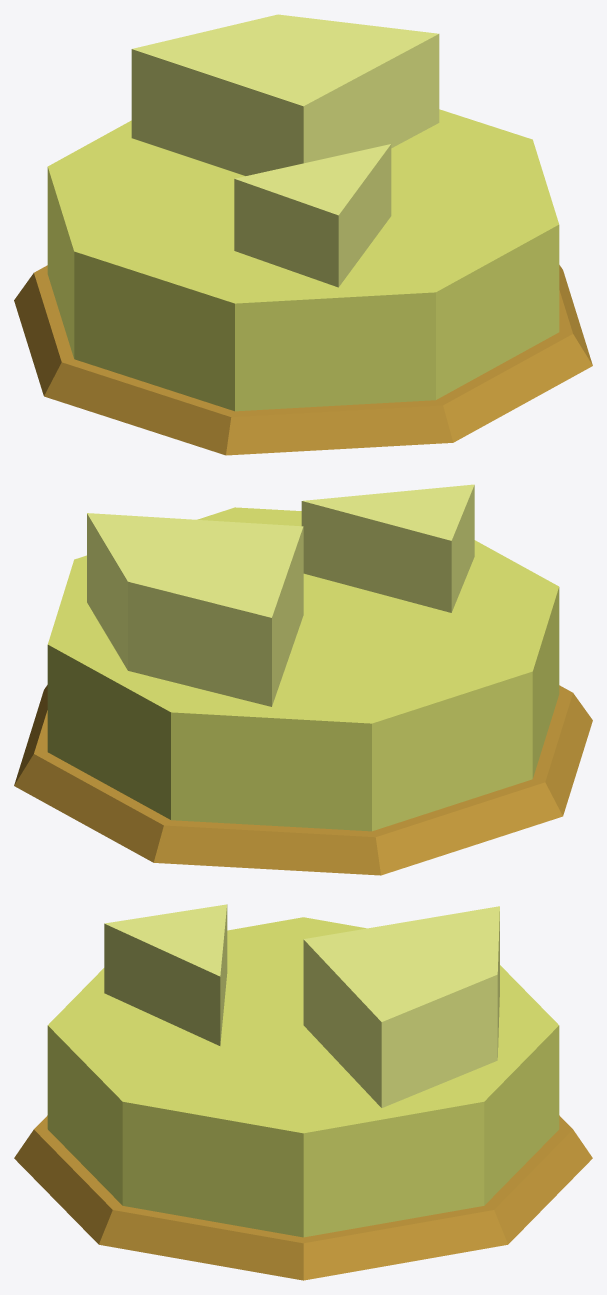
Rendered from Food 01 Cheese.fbx.
The picture shows the model from 3 angles, top to bottom: view 1: azimuth 30°, elevation 25°; view 2: azimuth 150°, elevation 25°; view 3: azimuth 270°, elevation 25°; orthographic projection. The views are drawn at different scales.
Visible parts, largest first — view 1: Food_01_Cheese; view 2: Food_01_Cheese; view 3: Food_01_Cheese.
Part boxes in pixels (left/top/right/bottom): Food_01_Cheese: left=14, top=14, right=592, bottom=455; Food_01_Cheese: left=14, top=484, right=592, bottom=875; Food_01_Cheese: left=14, top=904, right=592, bottom=1280.
Size of the model in its own units: 51.54 by 21.52 by 51.54.
